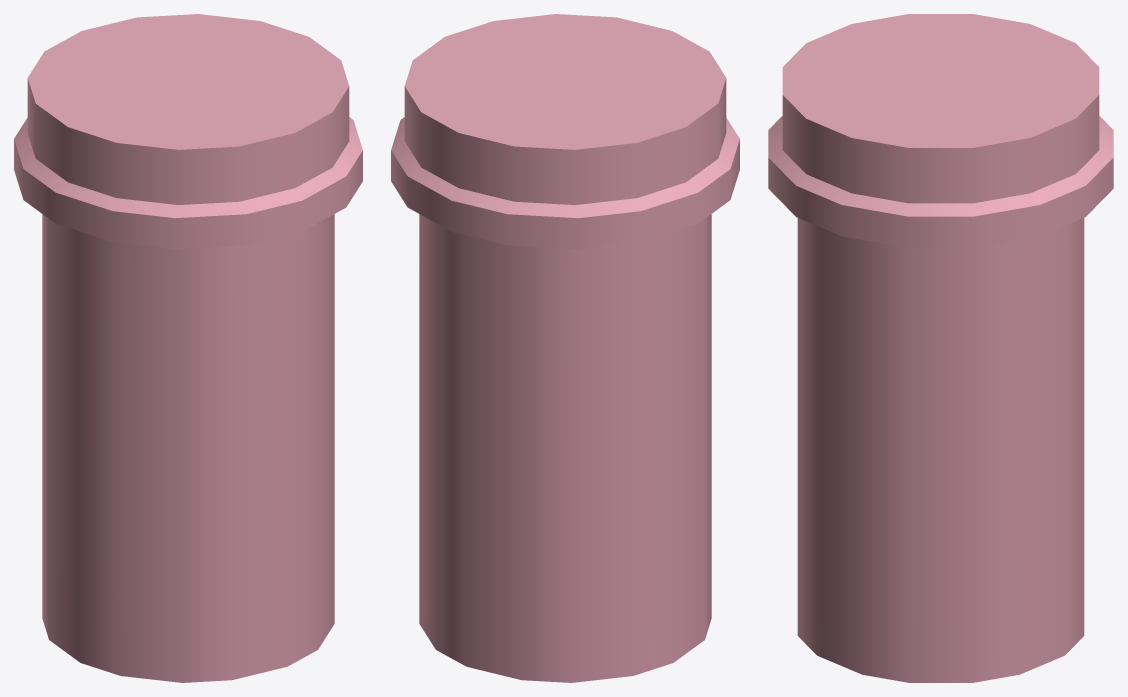
File: PillBottle.fbx
3 views of the same model, side by side, from view 1: azimuth 30°, elevation 25°; view 2: azimuth 150°, elevation 25°; view 3: azimuth 270°, elevation 25° (orthographic).
Parts seen in each view (by area): view 1: PillBottle; view 2: PillBottle; view 3: PillBottle.
Boxes of the visible parts, left/top/right/bottom form: PillBottle: left=14, top=14, right=362, bottom=682; PillBottle: left=391, top=14, right=739, bottom=682; PillBottle: left=768, top=14, right=1113, bottom=682.
Size of the model in its own units: 9.71 by 16.8 by 9.71.
